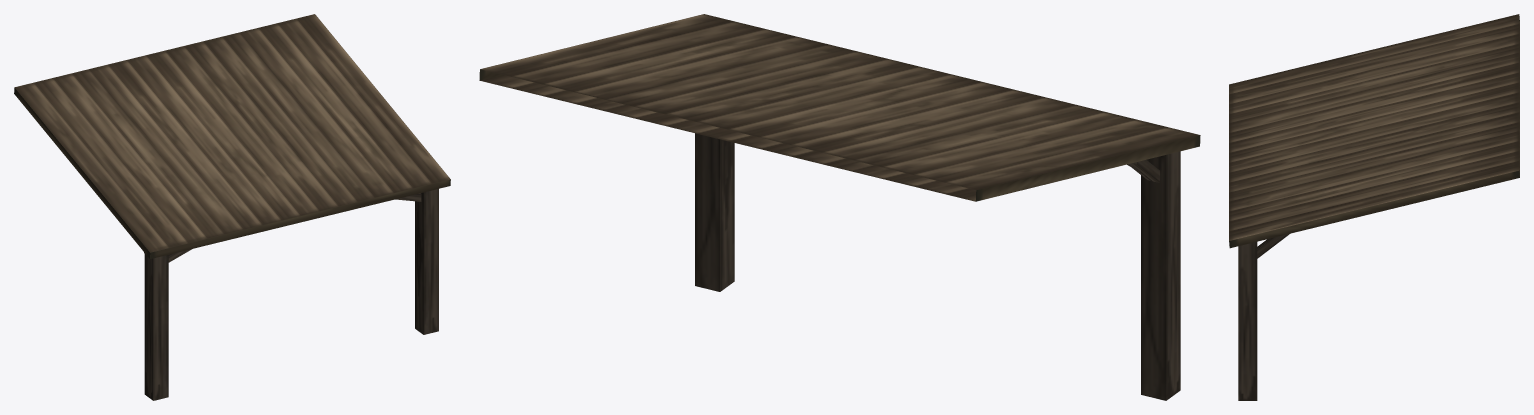
The model's file is Momo_Addon_Shiganshina3.fbx.
The picture shows the model from 3 angles, left to right: view 1: azimuth 30°, elevation 25°; view 2: azimuth 150°, elevation 25°; view 3: azimuth 270°, elevation 25°; orthographic projection. The views are drawn at different scales.
Parts seen in each view (by area): view 1: Momo_Addon_Shiganshina3; view 2: Momo_Addon_Shiganshina3; view 3: Momo_Addon_Shiganshina3.
Boxes of the visible parts, <box> form: Momo_Addon_Shiganshina3: <box>14,14,450,400</box>; Momo_Addon_Shiganshina3: <box>479,14,1200,400</box>; Momo_Addon_Shiganshina3: <box>1229,14,1519,400</box>.
Size of the model in its own units: 791 by 551 by 620.
